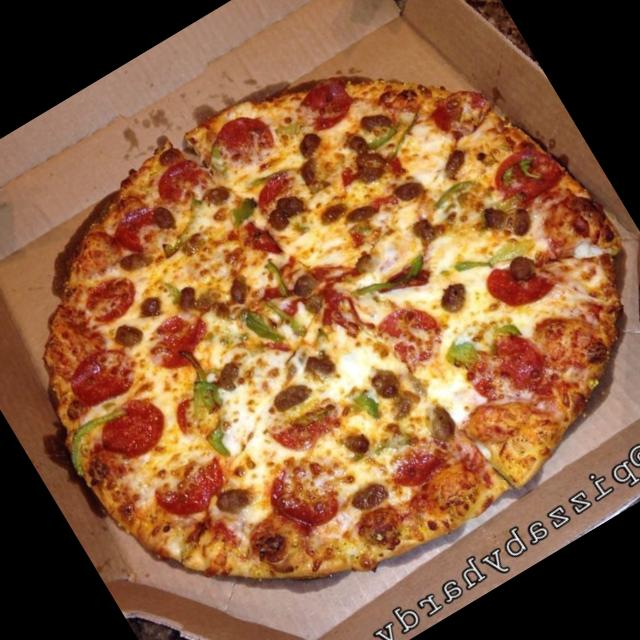pepperoni: (259, 446, 356, 544), (461, 320, 552, 409), (192, 96, 285, 182), (148, 444, 240, 527), (87, 386, 175, 469), (272, 66, 362, 146), (368, 294, 450, 381), (374, 409, 456, 491), (422, 76, 504, 154), (141, 300, 220, 378), (489, 133, 568, 210), (60, 336, 142, 410), (66, 268, 148, 342), (274, 388, 357, 460), (485, 239, 563, 315), (145, 146, 221, 222), (110, 191, 183, 260), (165, 384, 220, 443), (244, 167, 297, 214), (240, 216, 284, 264)
peppers: (162, 342, 250, 452), (56, 396, 140, 468), (352, 239, 438, 309), (448, 222, 532, 288), (238, 284, 306, 356), (366, 114, 414, 164), (429, 168, 481, 211), (439, 328, 482, 369), (346, 381, 386, 424)
pizza: (45, 74, 626, 584)
